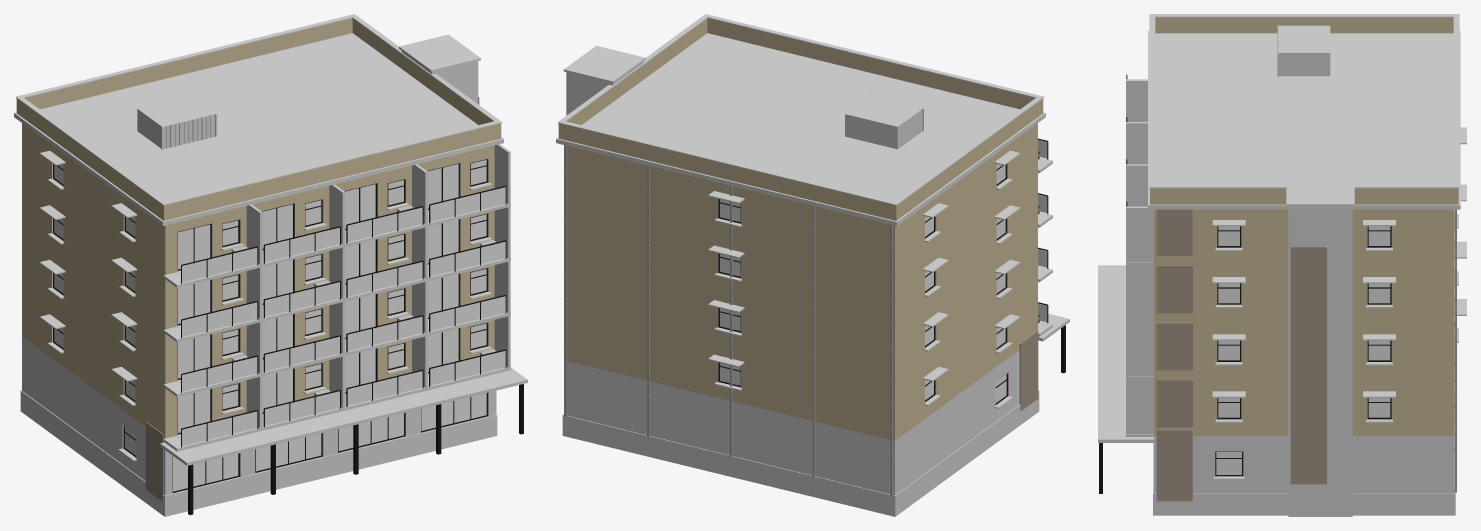
The model's file is apartment_20x15_5.glb.
The picture shows the model from 3 angles, left to right: view 1: azimuth 30°, elevation 25°; view 2: azimuth 150°, elevation 25°; view 3: azimuth 270°, elevation 25°; orthographic projection. The views are drawn at different scales.
Parts seen in each view (by area): view 1: apartment_20x15_5; view 2: apartment_20x15_5; view 3: apartment_20x15_5.
Part boxes in pixels (box(x1,y1,x2,y2)): apartment_20x15_5: box(14, 14, 527, 516); apartment_20x15_5: box(556, 14, 1069, 516); apartment_20x15_5: box(1098, 14, 1466, 516).
Size of the model in its own units: 23.53 by 19.2 by 18.41.
